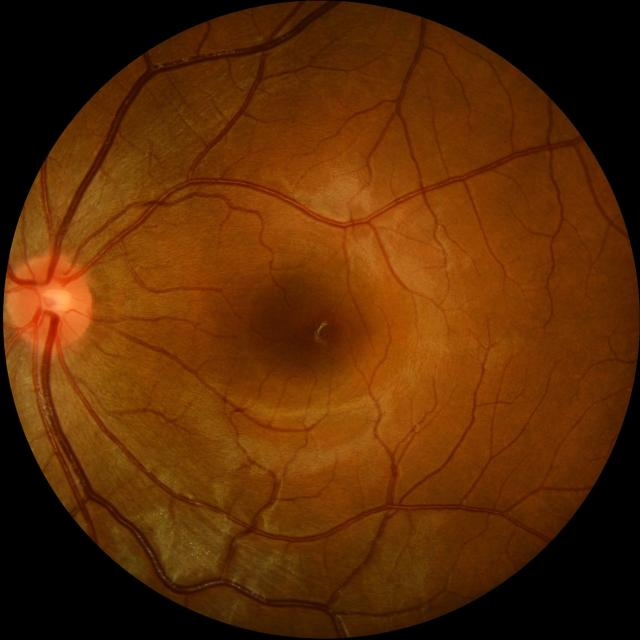OC: (41, 282, 72, 316)
OD: (5, 253, 91, 348)
